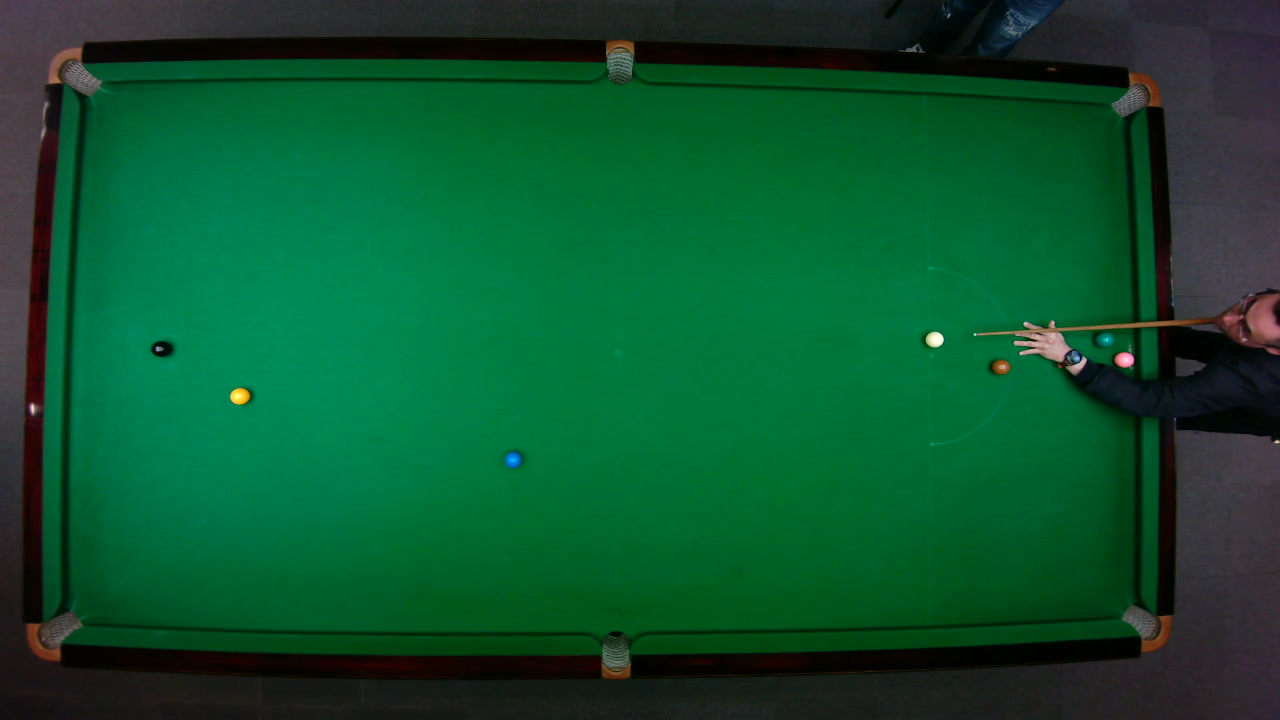bag: (25, 609, 83, 661), (45, 46, 102, 96), (1119, 603, 1172, 652), (1108, 71, 1161, 118), (600, 629, 629, 680), (605, 38, 633, 85)
black: (149, 339, 171, 357)
blue: (504, 450, 522, 468)
brown: (990, 358, 1010, 374)
cue: (972, 315, 1234, 341)
green: (1094, 331, 1113, 347)
pink: (1112, 350, 1134, 367)
white: (923, 330, 944, 347)
yellow: (228, 386, 250, 405)
zone: (926, 265, 1010, 445)
